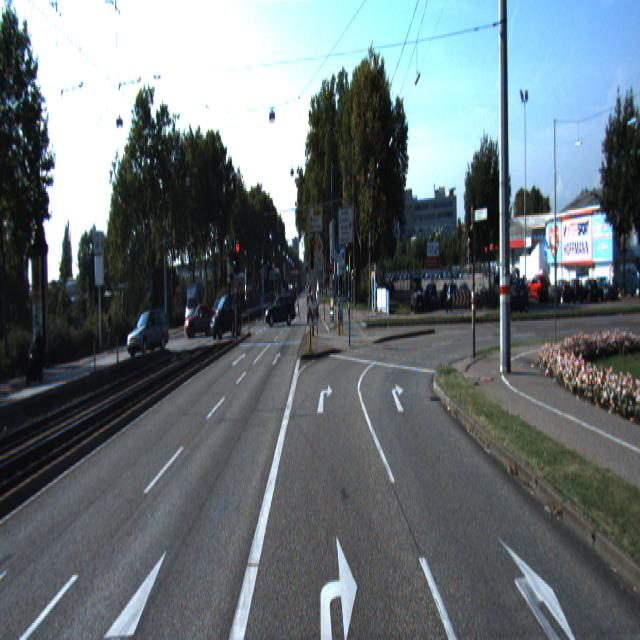Car: (127, 308, 171, 361), (26, 324, 49, 389), (210, 296, 242, 342), (264, 291, 298, 329), (184, 302, 217, 340)
